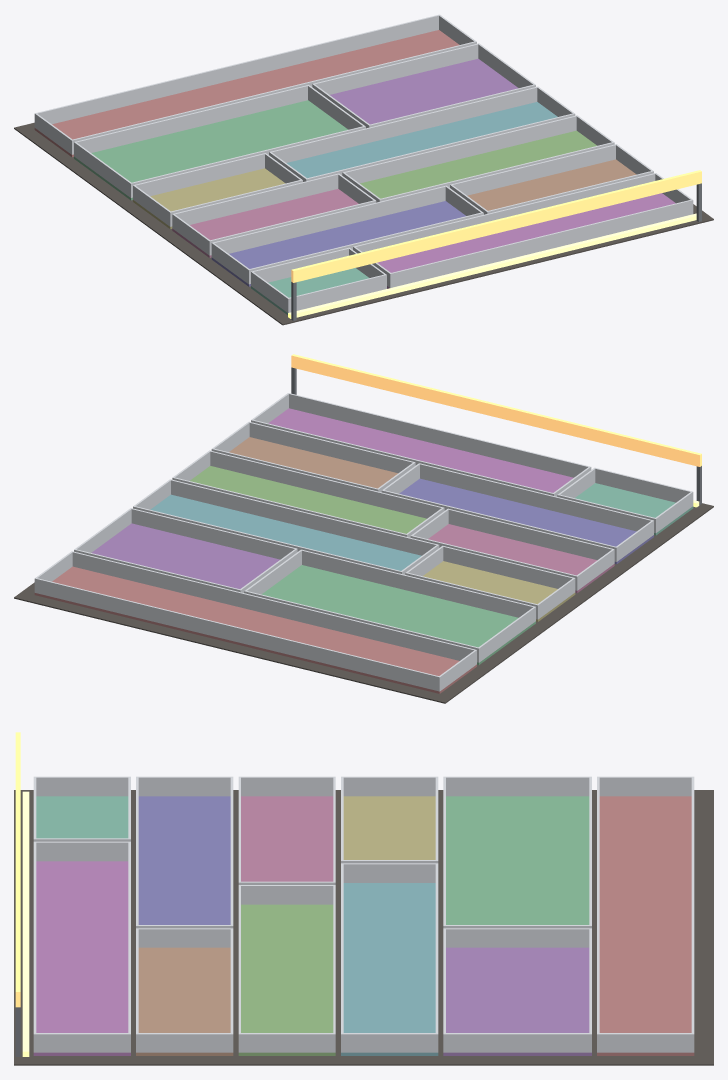
Rendered from hall-roofers.glb.
The picture shows the model from 3 angles, top to bottom: view 1: azimuth 30°, elevation 25°; view 2: azimuth 150°, elevation 25°; view 3: azimuth 270°, elevation 25°; orthographic projection. The views are drawn at different scales.
Visible parts, largest first — view 1: Roofers & Waterproofers; view 2: Roofers & Waterproofers; view 3: Roofers & Waterproofers.
Part boxes in pixels (x1,y1,x2,y2): Roofers & Waterproofers: (14, 14, 713, 325); Roofers & Waterproofers: (14, 354, 713, 703); Roofers & Waterproofers: (14, 732, 713, 1065).
Bounding box in the file's own units: 38 × 4.3 × 41.
